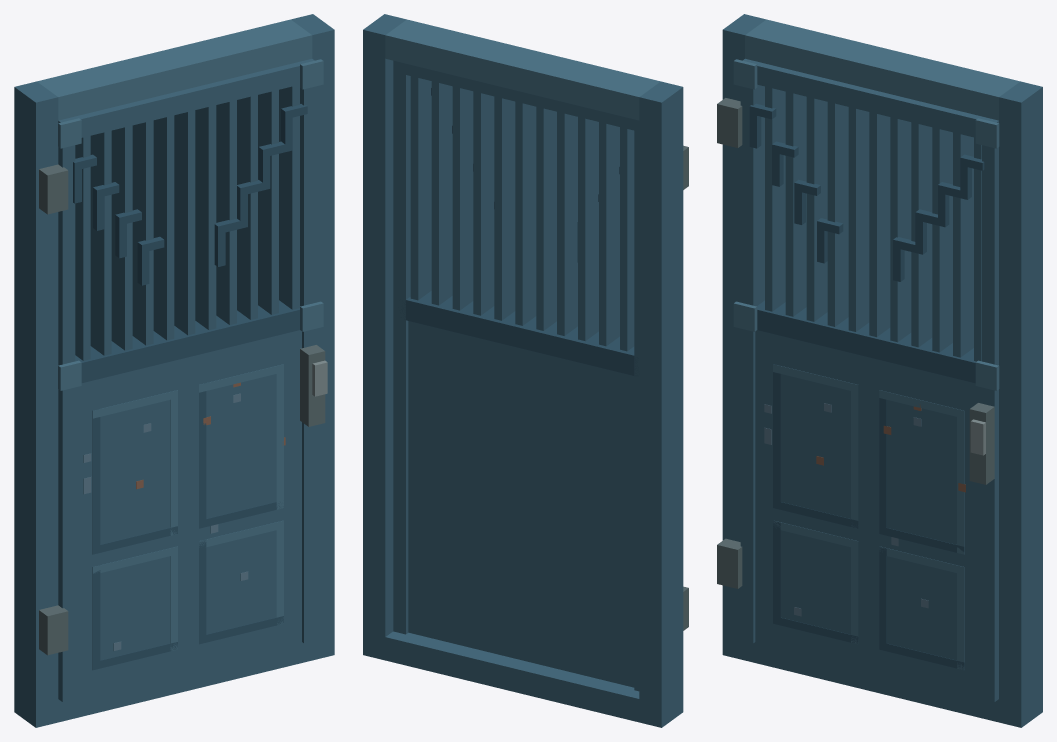
File: IronDoor_RuralBlue_1x1.fbx
3 views of the same model, side by side, from view 1: azimuth 30°, elevation 25°; view 2: azimuth 150°, elevation 25°; view 3: azimuth 330°, elevation 25° (orthographic).
Parts seen in each view (by area): view 1: IronDoor_RuralBlue_1x1_LeafSheet, IronDoor_RuralBlue_1x1_Frame_LeftJamb, IronDoor_RuralBlue_1x1_Frame_Lintel, IronDoor_RuralBlue_1x1_Frame_RightJamb, IronDoor_RuralBlue_1x1_LeafStile-1, IronDoor_RuralBlue_1x1_LeafStile1, IronDoor_RuralBlue_1x1_MidRail, IronDoor_RuralBlue_1x1_Frame_Threshold, IronDoor_RuralBlue_1x1_UpperRail, IronDoor_RuralBlue_1x1_GrilleBar5, IronDoor_RuralBlue_1x1_GrilleBar6, IronDoor_RuralBlue_1x1_GrilleBar4 (+35 smaller); view 2: IronDoor_RuralBlue_1x1_LeafSheet, IronDoor_RuralBlue_1x1_Frame_LeftJamb, IronDoor_RuralBlue_1x1_Frame_RightJamb, IronDoor_RuralBlue_1x1_Frame_Lintel, IronDoor_RuralBlue_1x1_LeafStile1, IronDoor_RuralBlue_1x1_Frame_Threshold, IronDoor_RuralBlue_1x1_MidRail, IronDoor_RuralBlue_1x1_GrilleBar5, IronDoor_RuralBlue_1x1_GrilleBar6, IronDoor_RuralBlue_1x1_GrilleBar9, IronDoor_RuralBlue_1x1_GrilleBar10, IronDoor_RuralBlue_1x1_GrilleBar7 (+8 smaller); view 3: IronDoor_RuralBlue_1x1_LeafSheet, IronDoor_RuralBlue_1x1_Frame_RightJamb, IronDoor_RuralBlue_1x1_Frame_Lintel, IronDoor_RuralBlue_1x1_Frame_LeftJamb, IronDoor_RuralBlue_1x1_LeafStile-1, IronDoor_RuralBlue_1x1_LeafStile1, IronDoor_RuralBlue_1x1_MidRail, IronDoor_RuralBlue_1x1_Frame_Threshold, IronDoor_RuralBlue_1x1_UpperRail, IronDoor_RuralBlue_1x1_GrilleBar5, IronDoor_RuralBlue_1x1_GrilleBar4, IronDoor_RuralBlue_1x1_GrilleBar3 (+32 smaller).
Boxes of the visible parts, bbox=[...] form: IronDoor_RuralBlue_1x1_LeafSheet: bbox=[75, 330, 301, 697]; IronDoor_RuralBlue_1x1_Frame_LeftJamb: bbox=[14, 81, 58, 727]; IronDoor_RuralBlue_1x1_Frame_Lintel: bbox=[37, 19, 312, 120]; IronDoor_RuralBlue_1x1_Frame_RightJamb: bbox=[291, 14, 334, 660]; IronDoor_RuralBlue_1x1_LeafStile-1: bbox=[58, 117, 75, 701]; IronDoor_RuralBlue_1x1_LeafStile1: bbox=[300, 59, 316, 643]; IronDoor_RuralBlue_1x1_MidRail: bbox=[75, 300, 300, 382]; IronDoor_RuralBlue_1x1_Frame_Threshold: bbox=[58, 641, 312, 722]; IronDoor_RuralBlue_1x1_UpperRail: bbox=[58, 62, 301, 137]; IronDoor_RuralBlue_1x1_GrilleBar5: bbox=[174, 110, 195, 335]; IronDoor_RuralBlue_1x1_GrilleBar6: bbox=[195, 105, 216, 330]; IronDoor_RuralBlue_1x1_GrilleBar4: bbox=[153, 115, 174, 340]; IronDoor_RuralBlue_1x1_LeafSheet: bbox=[408, 321, 634, 687]; IronDoor_RuralBlue_1x1_Frame_LeftJamb: bbox=[639, 81, 683, 727]; IronDoor_RuralBlue_1x1_Frame_RightJamb: bbox=[363, 14, 406, 660]; IronDoor_RuralBlue_1x1_Frame_Lintel: bbox=[385, 19, 660, 120]; IronDoor_RuralBlue_1x1_LeafStile1: bbox=[393, 60, 410, 634]; IronDoor_RuralBlue_1x1_Frame_Threshold: bbox=[385, 631, 639, 722]; IronDoor_RuralBlue_1x1_MidRail: bbox=[400, 291, 638, 375]; IronDoor_RuralBlue_1x1_GrilleBar5: bbox=[515, 101, 536, 325]; IronDoor_RuralBlue_1x1_GrilleBar6: bbox=[494, 96, 515, 320]; IronDoor_RuralBlue_1x1_GrilleBar9: bbox=[431, 81, 452, 305]; IronDoor_RuralBlue_1x1_GrilleBar10: bbox=[410, 76, 431, 300]; IronDoor_RuralBlue_1x1_GrilleBar7: bbox=[473, 91, 494, 315]; IronDoor_RuralBlue_1x1_LeafSheet: bbox=[755, 330, 981, 697]; IronDoor_RuralBlue_1x1_Frame_RightJamb: bbox=[999, 81, 1042, 727]; IronDoor_RuralBlue_1x1_Frame_Lintel: bbox=[745, 19, 1019, 120]; IronDoor_RuralBlue_1x1_Frame_LeftJamb: bbox=[722, 14, 766, 660]; IronDoor_RuralBlue_1x1_LeafStile-1: bbox=[740, 58, 764, 643]; IronDoor_RuralBlue_1x1_LeafStile1: bbox=[982, 117, 998, 701]; IronDoor_RuralBlue_1x1_MidRail: bbox=[757, 300, 976, 383]; IronDoor_RuralBlue_1x1_Frame_Threshold: bbox=[745, 641, 998, 722]; IronDoor_RuralBlue_1x1_UpperRail: bbox=[755, 62, 985, 137]; IronDoor_RuralBlue_1x1_GrilleBar5: bbox=[869, 112, 890, 337]; IronDoor_RuralBlue_1x1_GrilleBar4: bbox=[848, 107, 869, 331]; IronDoor_RuralBlue_1x1_GrilleBar3: bbox=[827, 102, 848, 326].
Size of the model in its own units: 100 by 200 by 21.5.
